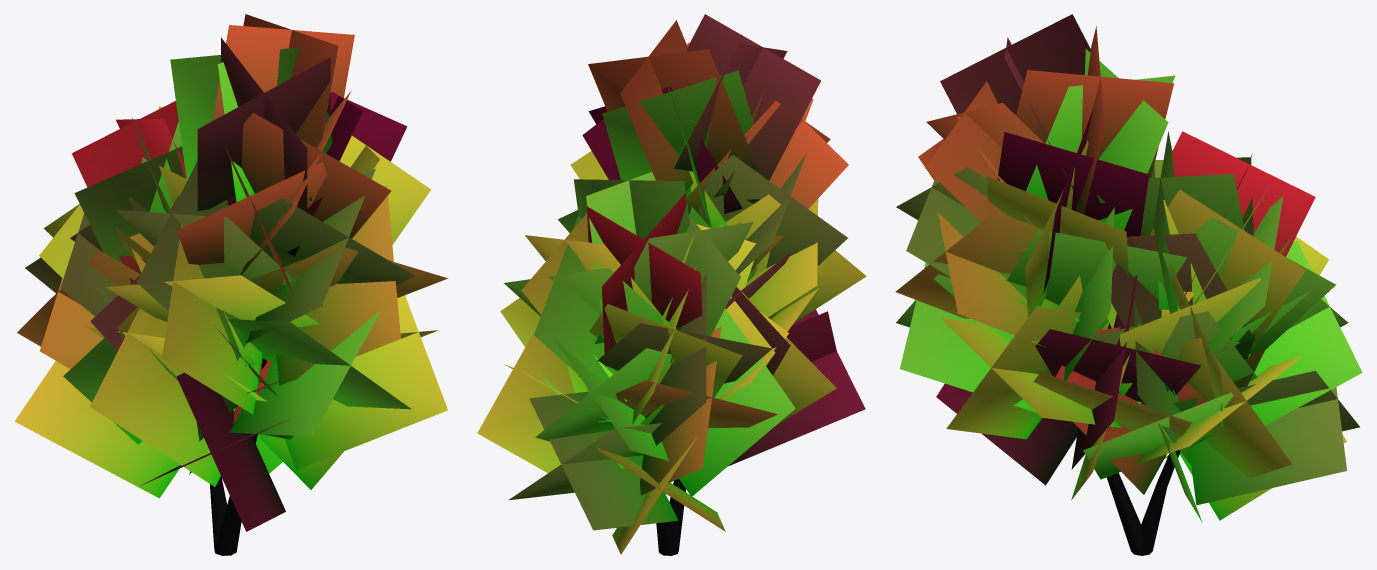
File: Tree_13.fbx
3 views of the same model, side by side, from view 1: azimuth 30°, elevation 25°; view 2: azimuth 150°, elevation 25°; view 3: azimuth 270°, elevation 25° (orthographic). The views are drawn at different scales.
Parts seen in each view (by area): view 1: Tree_13; view 2: Tree_13; view 3: Tree_13.
Boxes of the visible parts, x1,y1,x2,y2 form: Tree_13: [14, 14, 447, 555]; Tree_13: [477, 14, 866, 555]; Tree_13: [895, 14, 1362, 555].
Size of the model in its own units: 1085 by 1737 by 1419.
